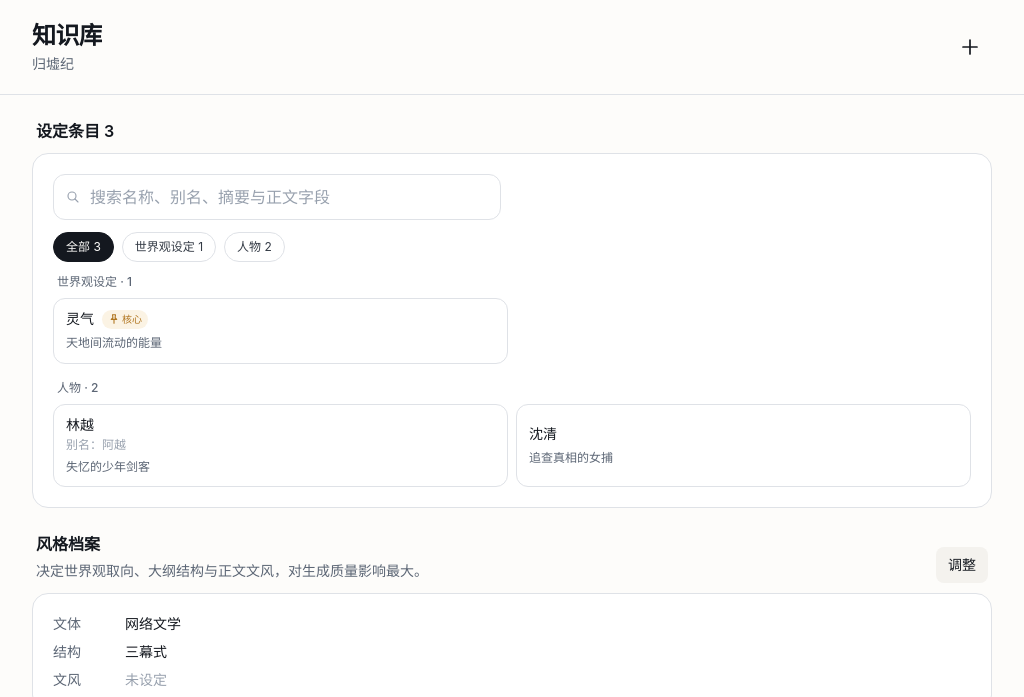
Test: 条目编辑 › 点条目卡片进入编辑，预填现有内容
The image size is (1024, 697).
Step 1. Click the button "林越 别名：阿越 失忆的少年剑客" → click(84, 444), box [53,404,508,487]
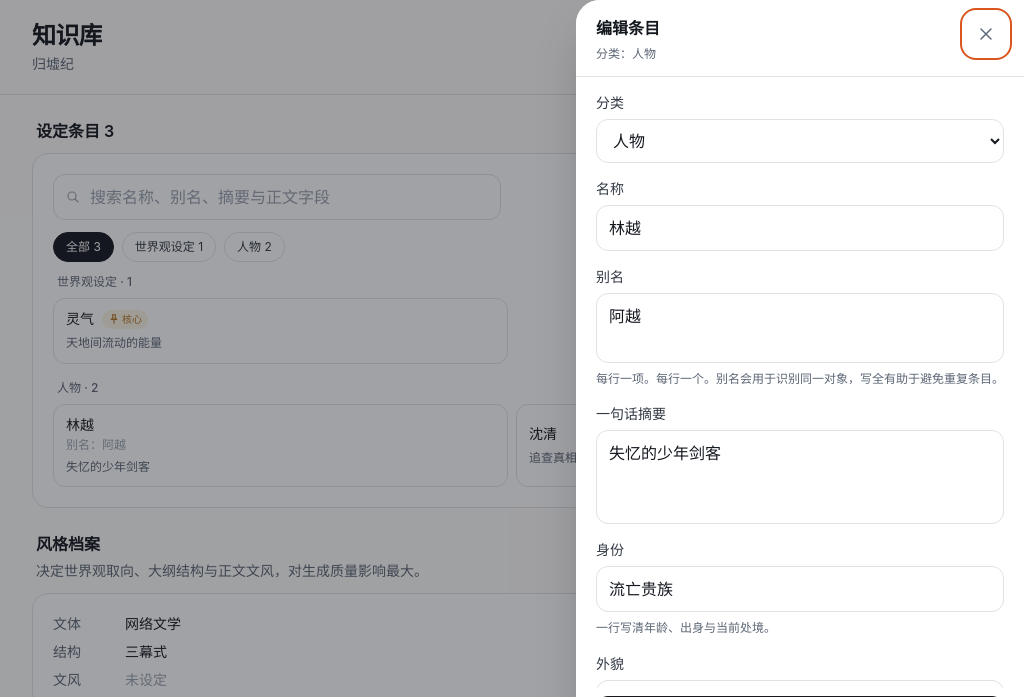
Result: the field labelled "名称" holds "林越" at [596,204,1004,250]
Result: the text box labelled "别名" holds "阿越" at [596,292,1004,362]
Result: the field labelled "身份" holds "流亡贵族" at [596,566,1004,612]
